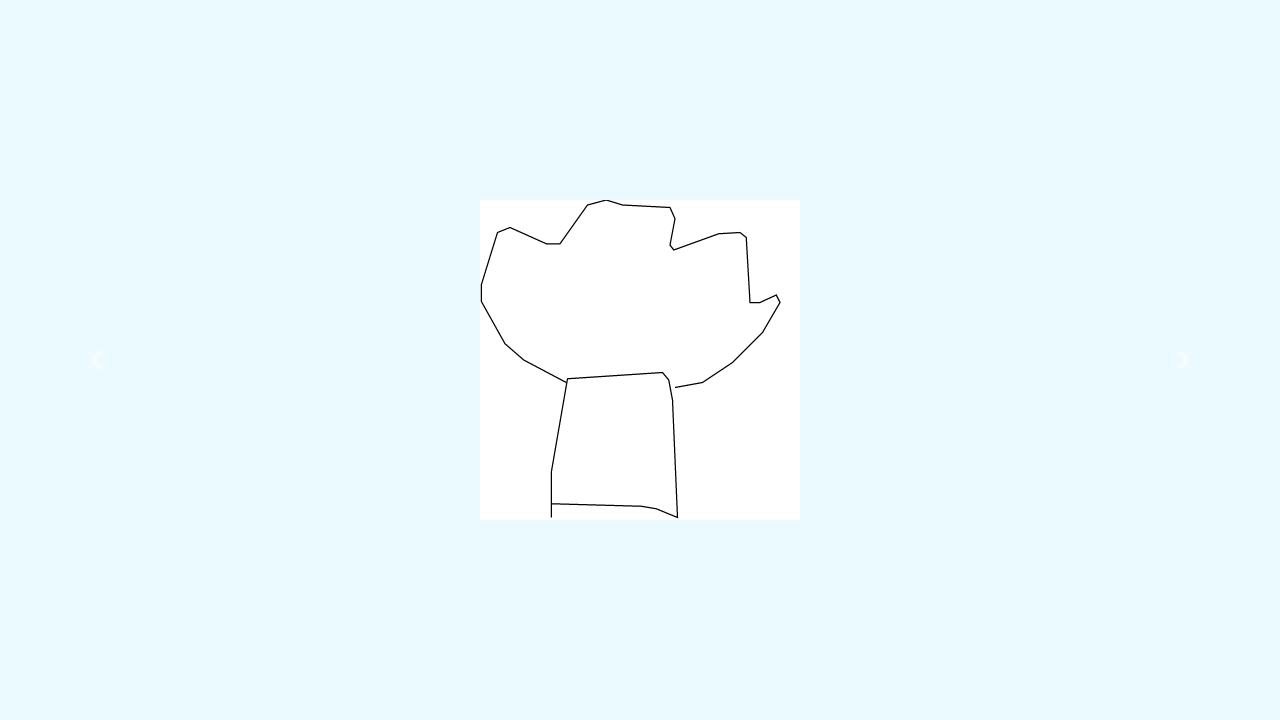tree: (474, 197, 789, 525)
